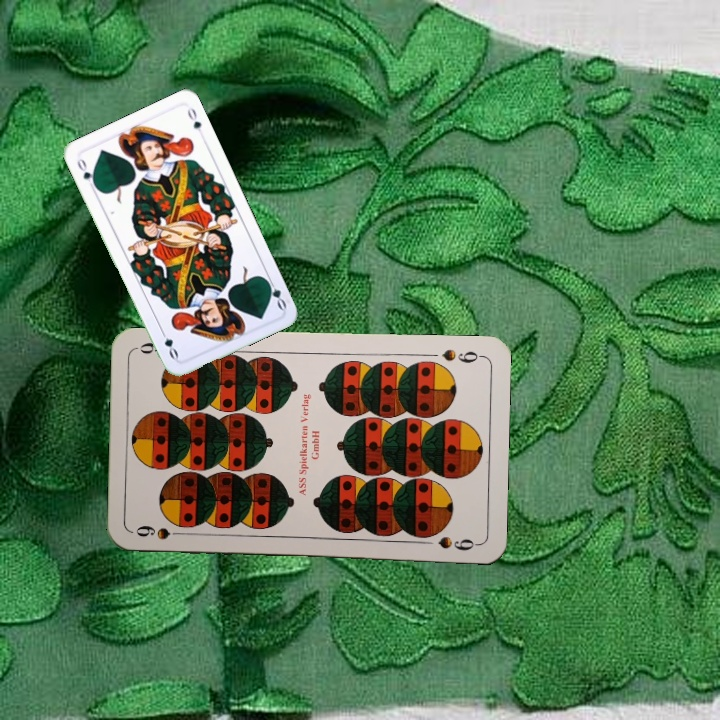GO: (261, 273, 289, 312), (73, 154, 99, 191)
S9: (131, 522, 190, 542), (438, 345, 485, 365)
